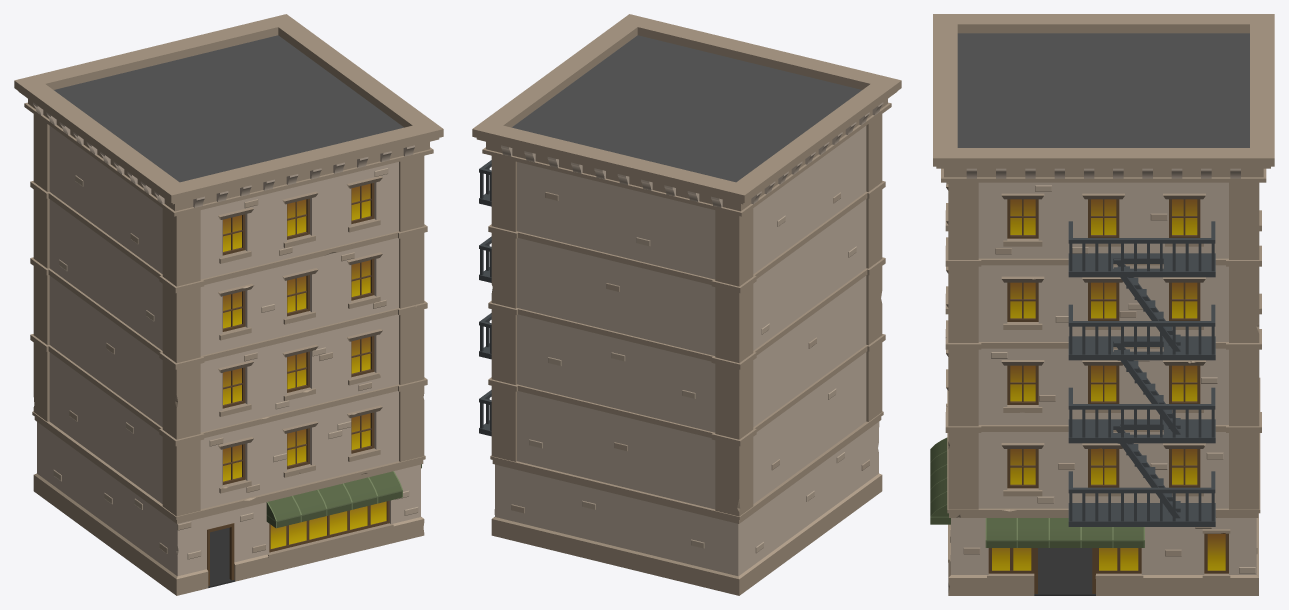
File: SM_Buildings_House_14_V1.fbx
The picture shows the model from 3 angles, left to right: view 1: azimuth 30°, elevation 25°; view 2: azimuth 150°, elevation 25°; view 3: azimuth 270°, elevation 25°; orthographic projection. The views are drawn at different scales.
Visible parts, largest first — view 1: SM_Buildings_House_14_V1; view 2: SM_Buildings_House_14_V1; view 3: SM_Buildings_House_14_V1.
Part boxes in pixels (x1=…): SM_Buildings_House_14_V1: x1=14, y1=14, x2=443, y2=595; SM_Buildings_House_14_V1: x1=472, y1=14, x2=901, y2=595; SM_Buildings_House_14_V1: x1=930, y1=14, x2=1274, y2=595.
Bounding box in the file's own units: 12.01 × 16.02 × 11.25.
